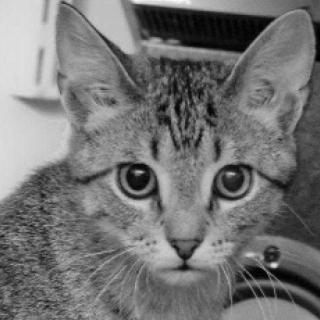cat: (54, 0, 320, 297)
nose: (157, 222, 214, 262)
